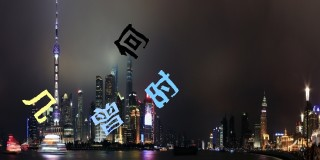何: (113, 23, 150, 60)
几: (19, 89, 58, 125)
时: (141, 67, 179, 111)
曾: (88, 100, 125, 135)
